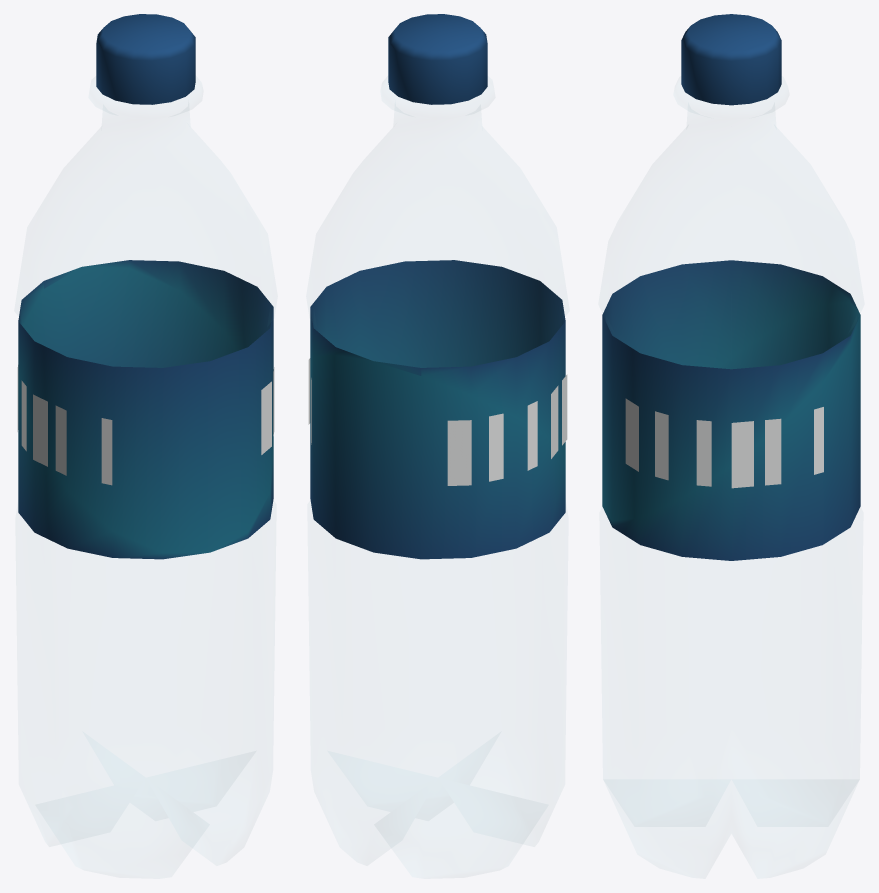
The picture shows the model from 3 angles, left to right: view 1: azimuth 30°, elevation 25°; view 2: azimuth 150°, elevation 25°; view 3: azimuth 270°, elevation 25°; orthographic projection.
Visible parts, largest first — view 1: base.022; view 2: base.022; view 3: base.022.
Boxes of the visible parts, left/top/right/bottom form: base.022: left=17, top=14, right=274, bottom=559; base.022: left=308, top=14, right=567, bottom=559; base.022: left=602, top=14, right=860, bottom=560.
Bounding box in the file's own units: 0.1498 × 0.5 × 0.1498.
